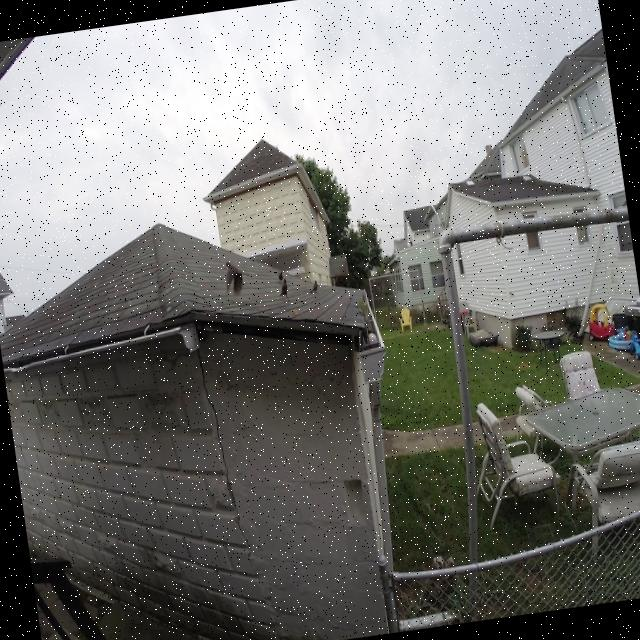bird: (278, 278, 290, 302), (309, 280, 319, 294), (290, 308, 298, 318)
